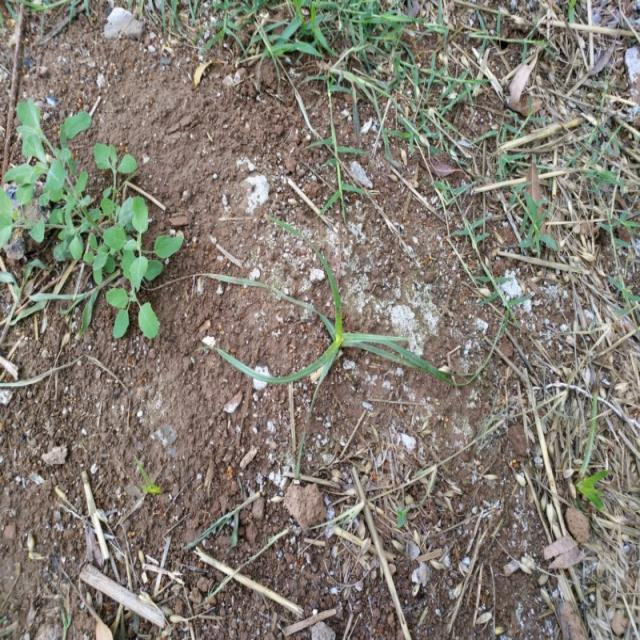sedge: (246, 227, 438, 424)
